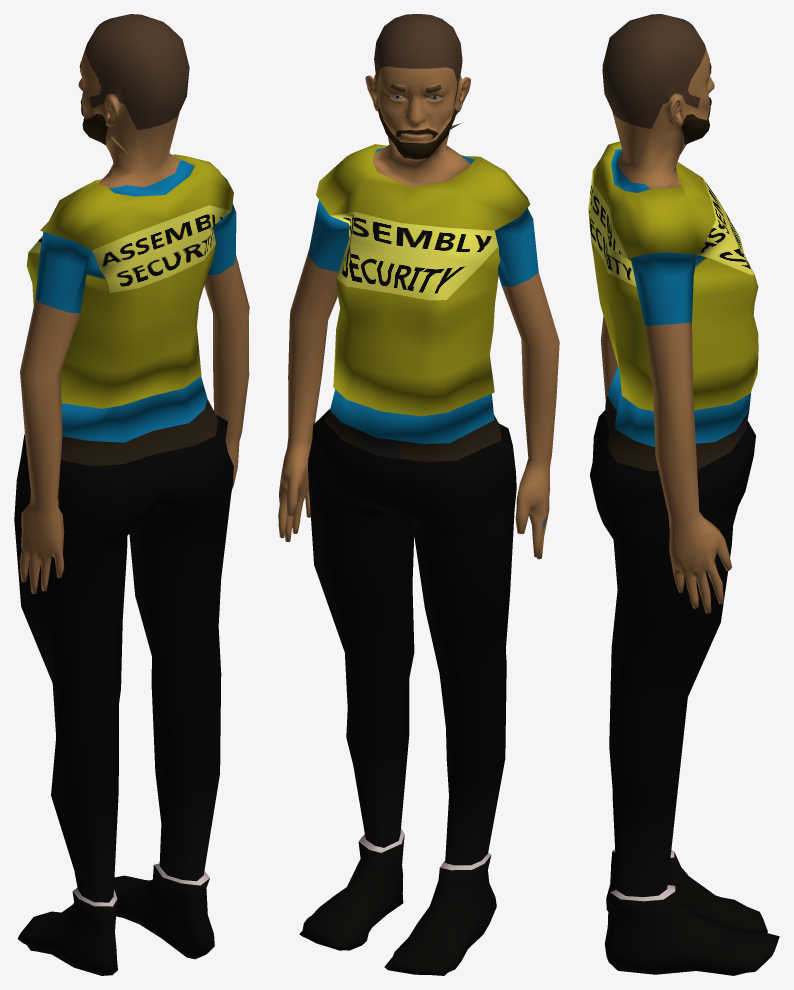
Rendered from securityguy_000003.obj.
3 renders of one model, left to right at view 1: azimuth 30°, elevation 25°; view 2: azimuth 150°, elevation 25°; view 3: azimuth 270°, elevation 25°, orthographic. The views are drawn at different scales.
Visible parts, largest first — view 1: Cube; view 2: Cube; view 3: Cube.
Boxes of the visible parts, x1,y1,x2,y2 form: Cube: (14, 14, 249, 975); Cube: (278, 14, 559, 975); Cube: (588, 14, 779, 975).
Size of the model in its own units: 27.33 by 97.59 by 18.17.
13 materials, 1 textured.
